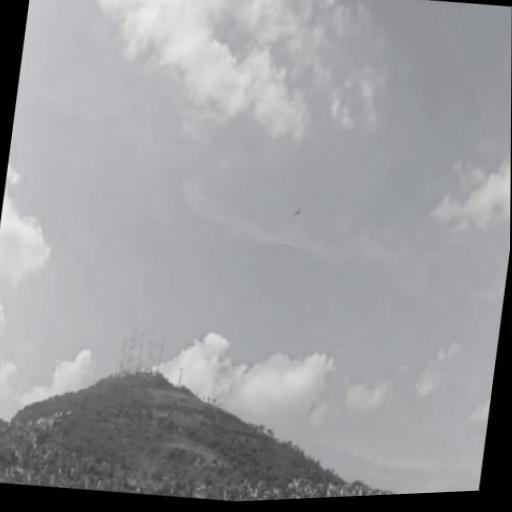drones: (288, 203, 305, 224)
